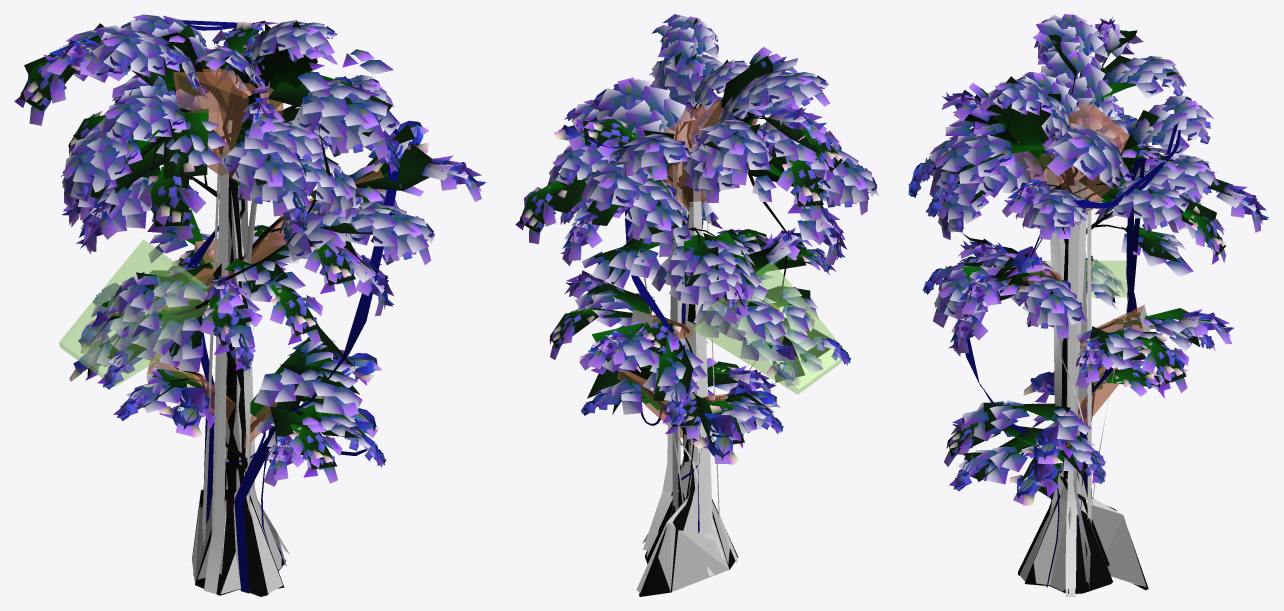
Rendered from tro_tree_2_tall.dae.
3 views of the same model, side by side, from view 1: azimuth 30°, elevation 25°; view 2: azimuth 150°, elevation 25°; view 3: azimuth 270°, elevation 25° (orthographic). The views are drawn at different scales.
Parts seen in each view (by area): view 1: tree_oak_bush_a1800, tree_oak_bush_a180, Colmesh-1; view 2: tree_oak_bush_a1800, tree_oak_bush_a180, Colmesh-1; view 3: tree_oak_bush_a1800, tree_oak_bush_a180, Colmesh-1.
Boxes of the visible parts, left/top/right/bottom form: tree_oak_bush_a1800: left=14, top=14, right=483, bottom=593; tree_oak_bush_a180: left=19, top=17, right=486, bottom=596; Colmesh-1: left=59, top=69, right=385, bottom=594; tree_oak_bush_a1800: left=515, top=14, right=879, bottom=576; tree_oak_bush_a180: left=519, top=25, right=876, bottom=596; Colmesh-1: left=617, top=100, right=845, bottom=592; tree_oak_bush_a1800: left=908, top=14, right=1262, bottom=596; tree_oak_bush_a180: left=908, top=17, right=1268, bottom=593; Colmesh-1: left=1008, top=103, right=1150, bottom=591.
Size of the model in its own units: 20.39 by 18.99 by 30.12.
